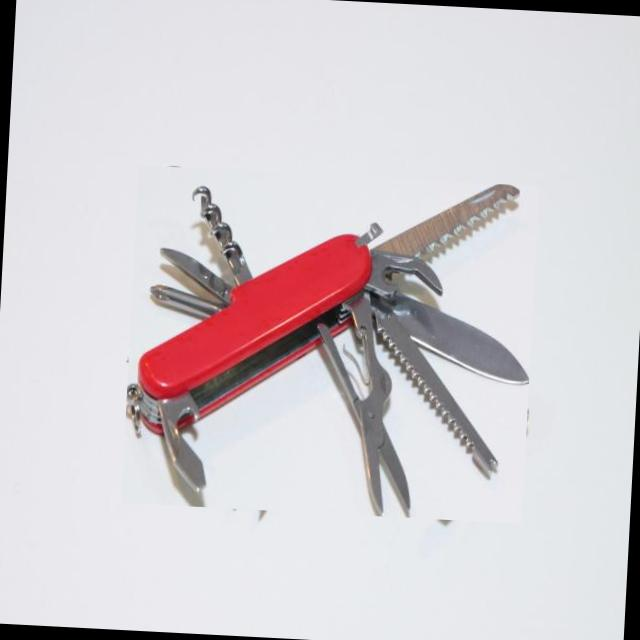Knife: (127, 184, 529, 516)
